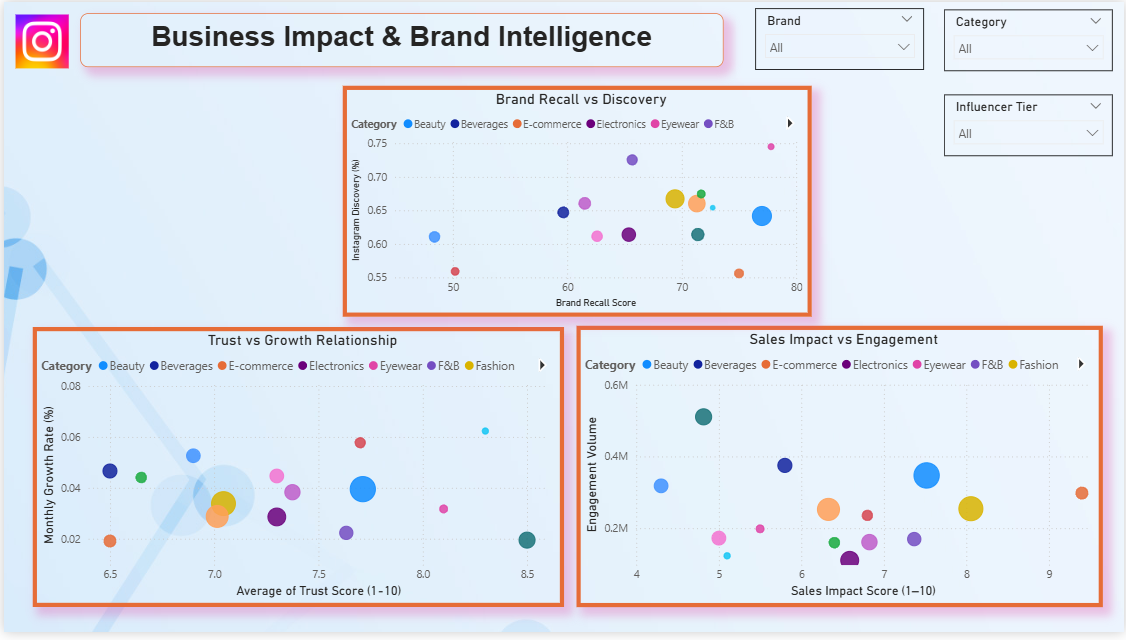

What the dashboard file says about the page in this screenshot:
{"tool":"powerbi","page":{"name":"BUSINESS IMPACT ANALYSIS","canvas":[1280,720],"ordinal":2},"visuals":[{"type":"image","box":[10,13.8,67.5,61.2],"z":0},{"type":"textbox","box":[87.5,12.5,735,61.2],"z":1},{"type":"scatterChart","title":"Trust vs Growth Relationship","fields":{"Series":["cleaned_data.Category"],"X":["Avg(cleaned_data.Trust Score (1-10))"],"Y":["Avg(cleaned_data.Monthly Follower Growth %)"],"Size":["Sum(cleaned_data.Followers)"]},"box":[32.9,371.4,607.1,320],"z":2},{"type":"scatterChart","title":"Sales Impact vs Engagement","fields":{"X":["Avg(cleaned_data.Sales Impact Score (1-10))"],"Y":["Avg(cleaned_data.Total_Engagement)"],"Size":["Sum(cleaned_data.Followers)"],"Series":["cleaned_data.Category"]},"box":[654.3,370,601.4,321.4],"z":3},{"type":"scatterChart","title":"Brand Recall vs Discovery","fields":{"X":["Avg(cleaned_data.Brand Recall Score)"],"Y":["Avg(cleaned_data.Instagram Discovery %)"],"Size":["Sum(cleaned_data.Followers)"],"Series":["cleaned_data.Category"]},"box":[387.1,95.7,535.7,264.3],"z":4},{"type":"slicer","fields":{"Values":["cleaned_data.Brand"]},"box":[858.6,7.1,192.9,70],"z":5},{"type":"slicer","fields":{"Values":["cleaned_data.Category"]},"box":[1074.3,8.6,192.9,70],"z":6},{"type":"slicer","fields":{"Values":["cleaned_data.Influencer Tier"]},"box":[1074.3,105.7,192.9,70],"z":7}]}

Visuals, with their boxes in screenshot pixels (x1, y1, x2, y2), scaled from the page's 1280x720 canvas onto the 1126x640 screenshot:
image: x1=9, y1=12, x2=68, y2=67
textbox: x1=77, y1=11, x2=724, y2=66
"Trust vs Growth Relationship" scatterChart: x1=29, y1=330, x2=563, y2=615
"Sales Impact vs Engagement" scatterChart: x1=576, y1=329, x2=1105, y2=615
"Brand Recall vs Discovery" scatterChart: x1=341, y1=85, x2=812, y2=320
slicer - cleaned_data.Brand: x1=755, y1=6, x2=925, y2=69
slicer - cleaned_data.Category: x1=945, y1=8, x2=1115, y2=70
slicer - cleaned_data.Influencer Tier: x1=945, y1=94, x2=1115, y2=156
